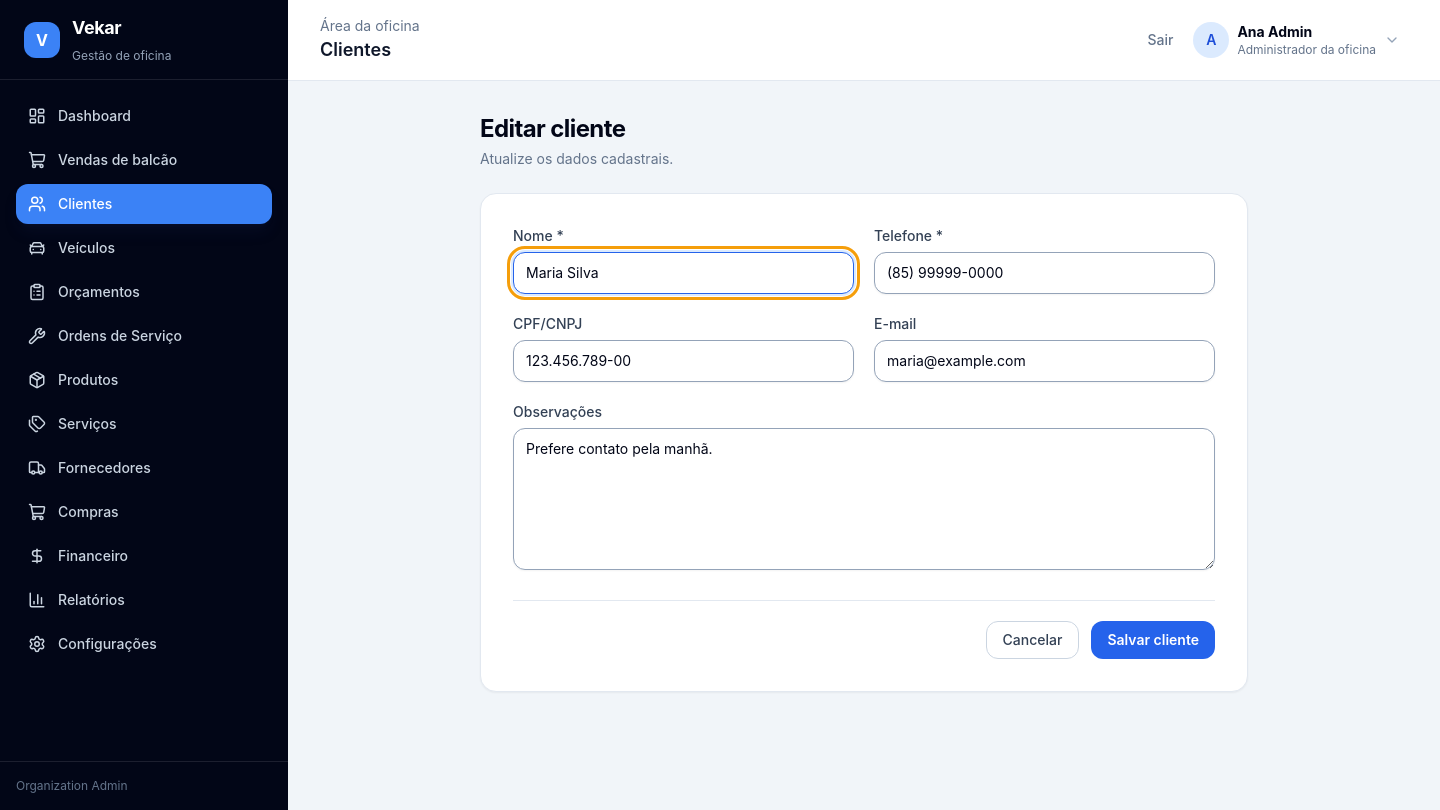
Scenario: Customer management through the routed application › does not send an update when editing without changes
The image size is (1440, 810).
Expected: the heading "Editar cliente" is shown, [480,114,625,143]
Click the button "Salvar cliente". click: (1153, 640)
box: [1091,621,1215,659]
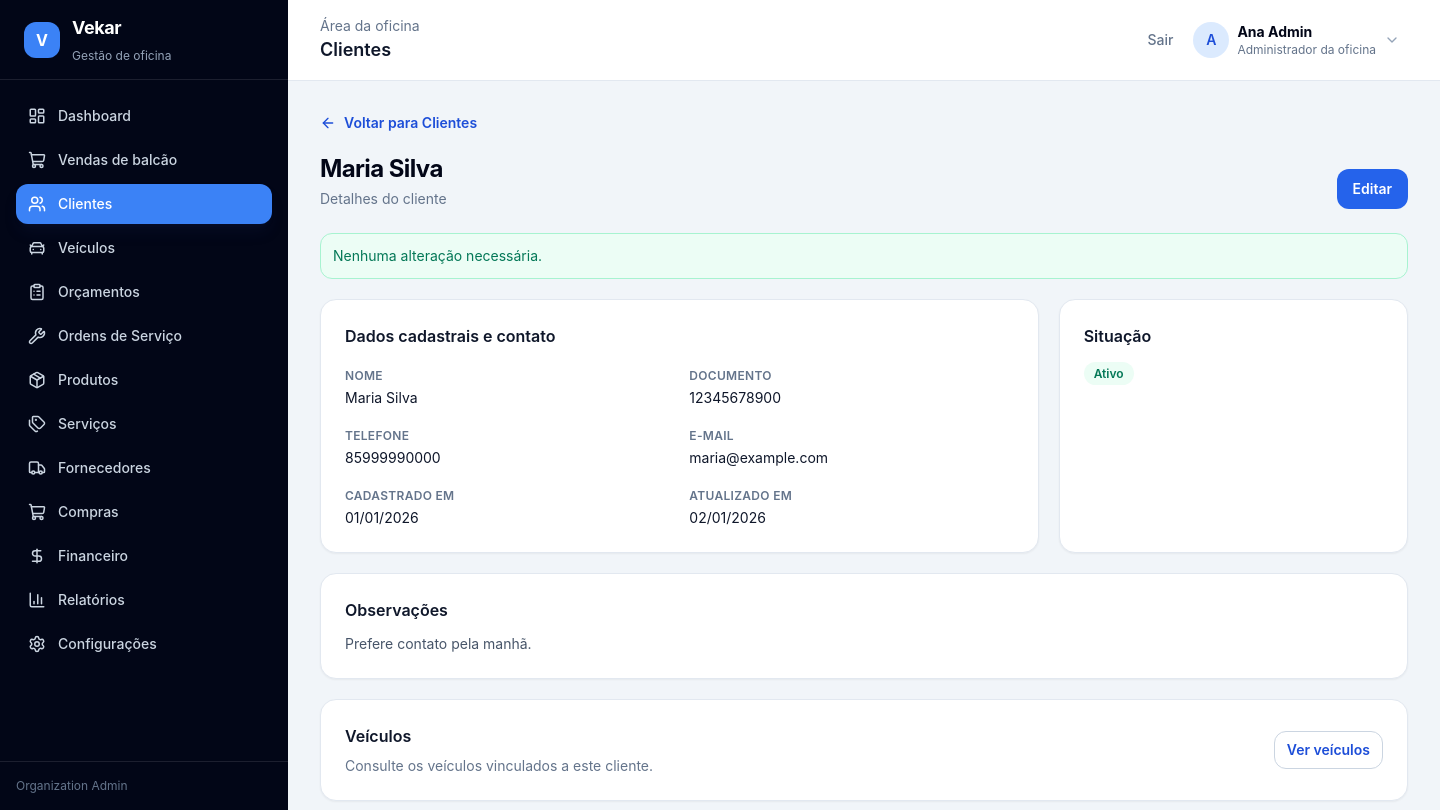
Expected: the heading "Maria Silva" is shown, [320,153,447,185]
Expected: the message reads "Nenhuma alteração necessária.", [333,247,542,264]
